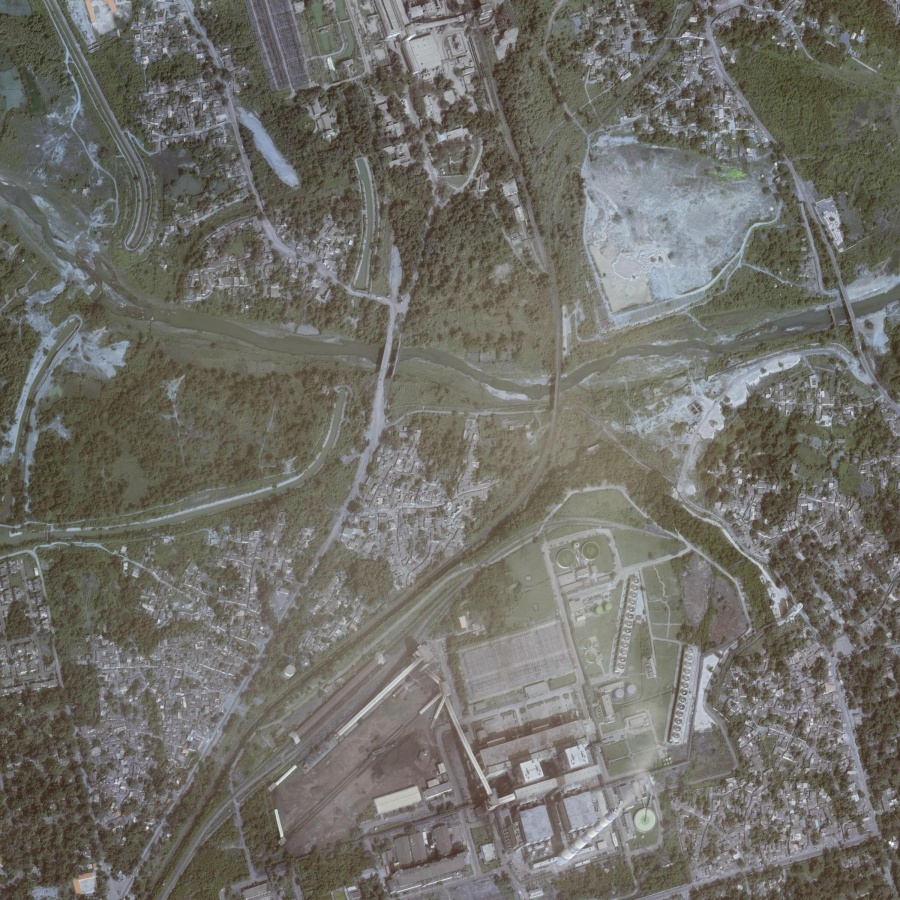PowerPlant: (271, 535, 713, 889)
